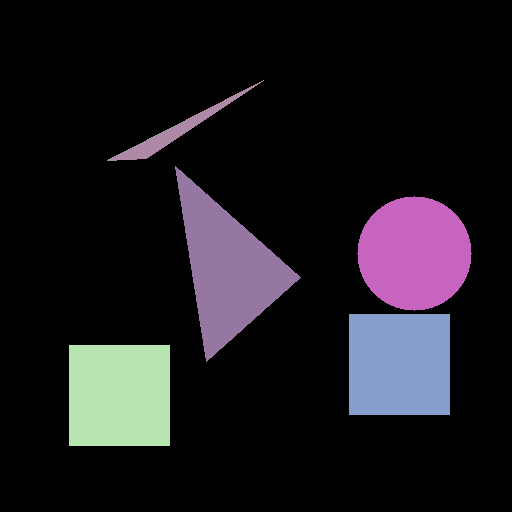circle: (357, 196, 471, 310)
square: (69, 345, 169, 445), (349, 314, 449, 414)
triangle: (175, 166, 300, 361), (107, 80, 263, 160)
